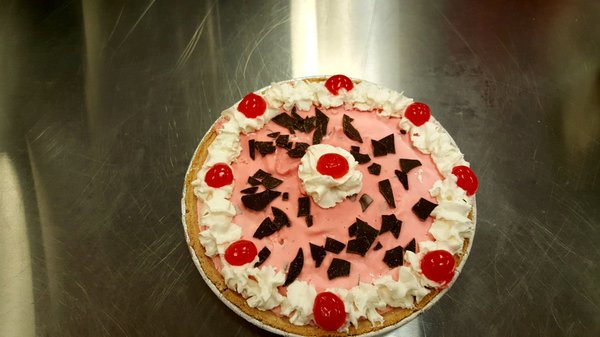sandwich: (183, 75, 478, 334)
sushi: (185, 74, 478, 334)
